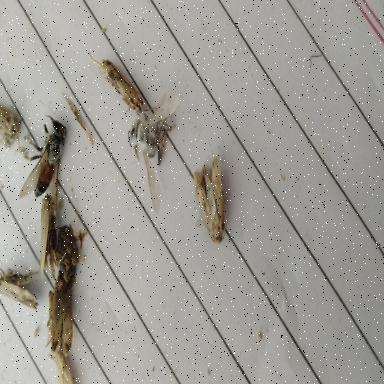pbw: (88, 52, 158, 114), (192, 158, 226, 242), (47, 276, 79, 357), (0, 255, 38, 308), (40, 184, 54, 284)
